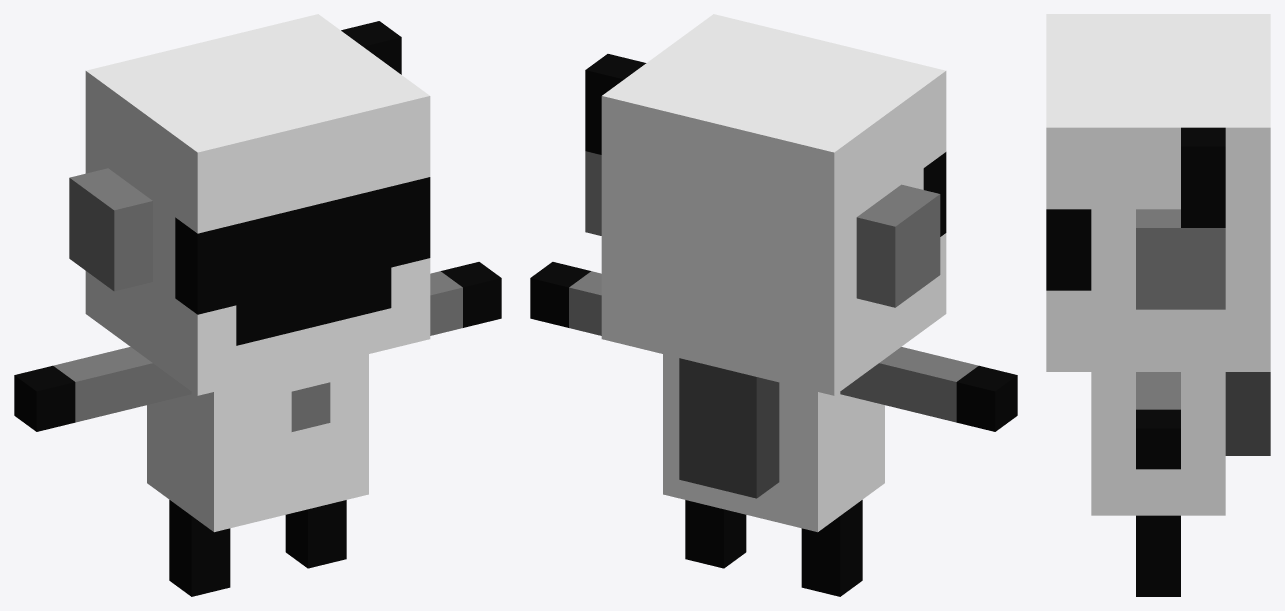
Rendered from Damon3.obj.
The picture shows the model from 3 angles, left to right: view 1: azimuth 30°, elevation 25°; view 2: azimuth 150°, elevation 25°; view 3: azimuth 270°, elevation 25°; orthographic projection.
Bounding box in the file's own units: 12 × 12 × 5.
Materials: 1 (1 with a texture image).
